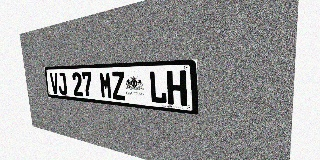2: (72, 72, 83, 96)
7: (81, 72, 93, 97)
H: (167, 70, 187, 106)
J: (57, 72, 67, 95)
L: (149, 71, 167, 104)
M: (99, 72, 113, 99)
V: (50, 73, 59, 94)
Z: (111, 71, 126, 100)
